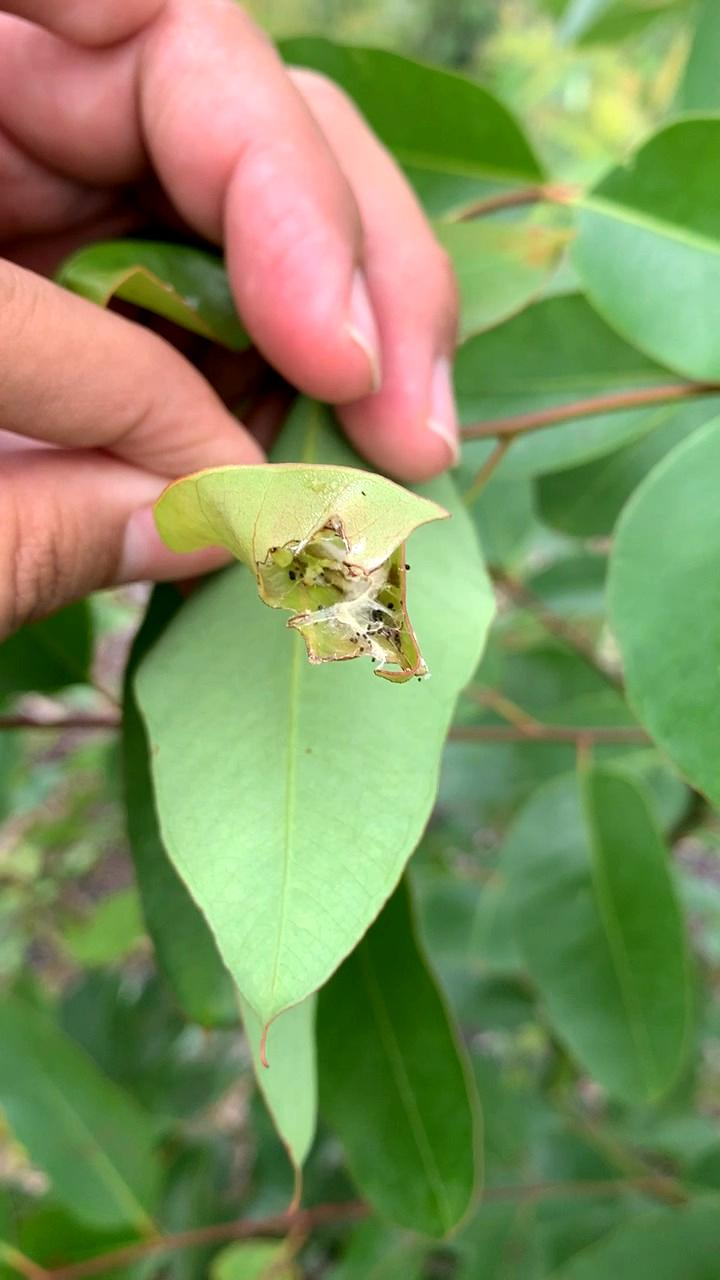Leaf Roller - Leaf: (153, 448, 468, 749)
